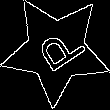P_SW: (26, 21, 86, 80)
